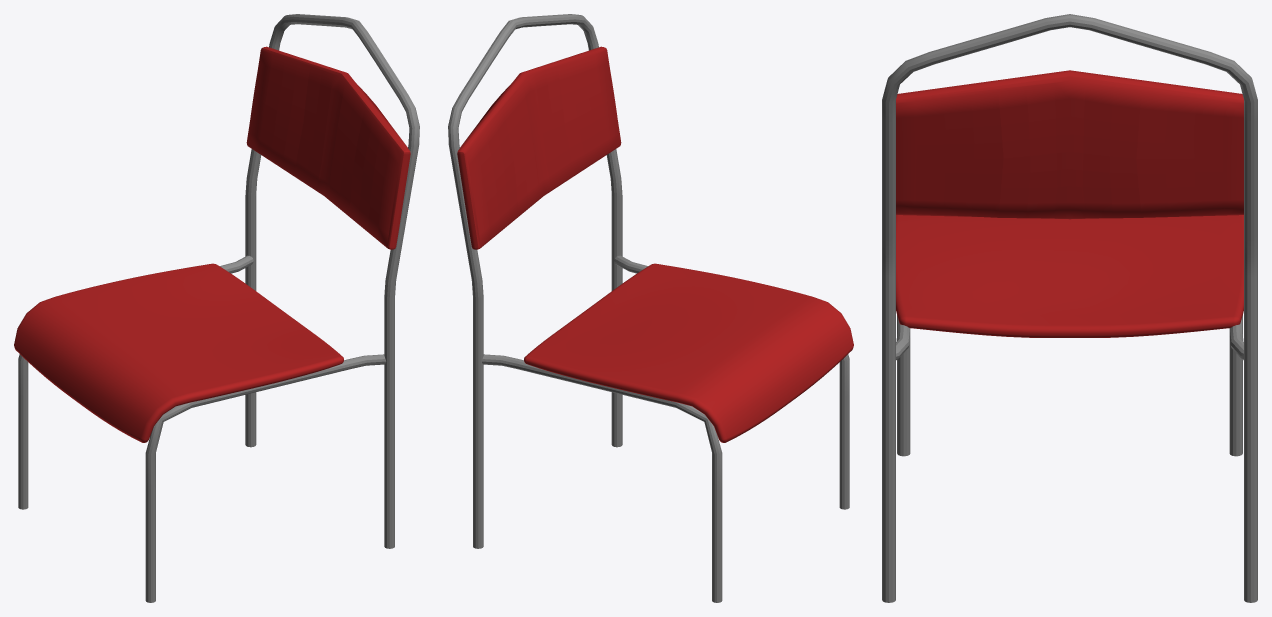
Rendered from Stol.fbx.
The picture shows the model from 3 angles, left to right: view 1: azimuth 30°, elevation 25°; view 2: azimuth 150°, elevation 25°; view 3: azimuth 270°, elevation 25°; orthographic projection. The views are drawn at different scales.
Visible parts, largest first — view 1: pCube4; view 2: pCube4; view 3: pCube4.
Part boxes in pixels (x1,y1,x2,y2): pCube4: (14, 14, 419, 602); pCube4: (448, 14, 853, 602); pCube4: (882, 14, 1257, 602).
Bounding box in the file's own units: 64.12 × 101 × 56.51.
